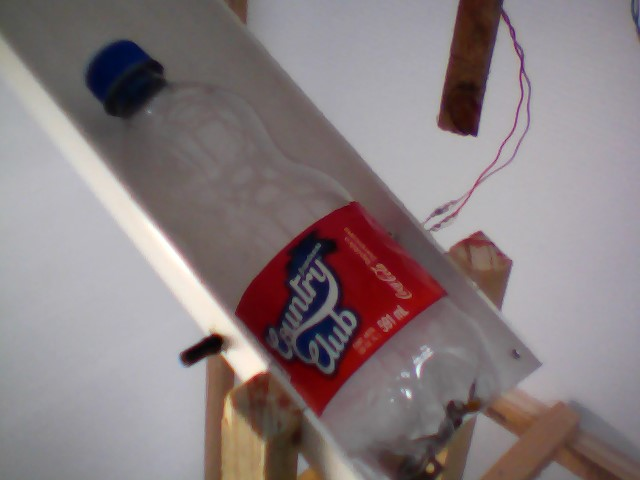plastico: (75, 30, 508, 480)
